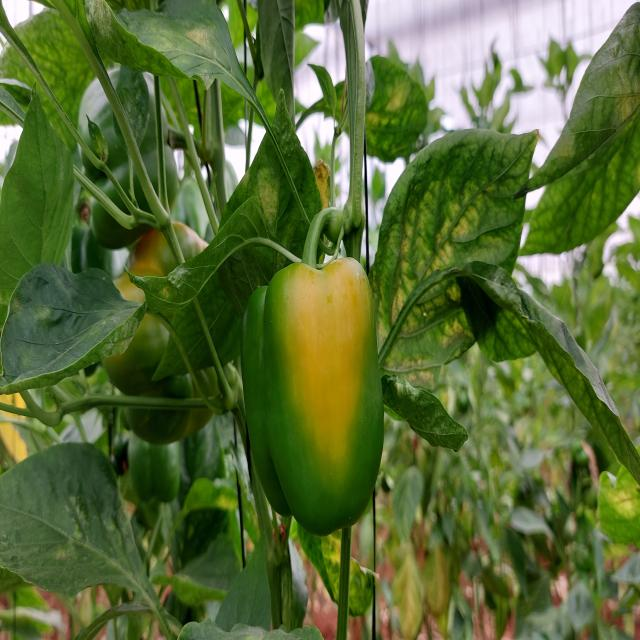GreenishYellow--Can-be-Harvested: (237, 258, 397, 541)
